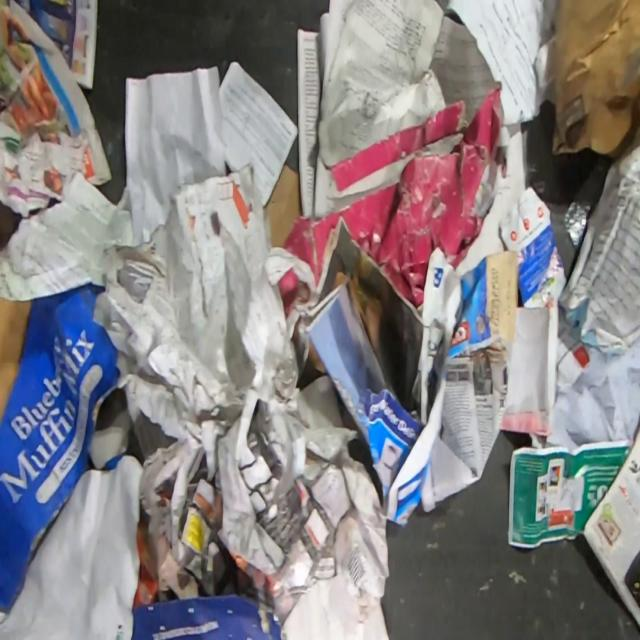cardboard: (278, 80, 504, 324), (0, 281, 130, 613), (131, 593, 281, 640), (264, 163, 302, 247)
soft_plastic: (564, 154, 612, 246)
